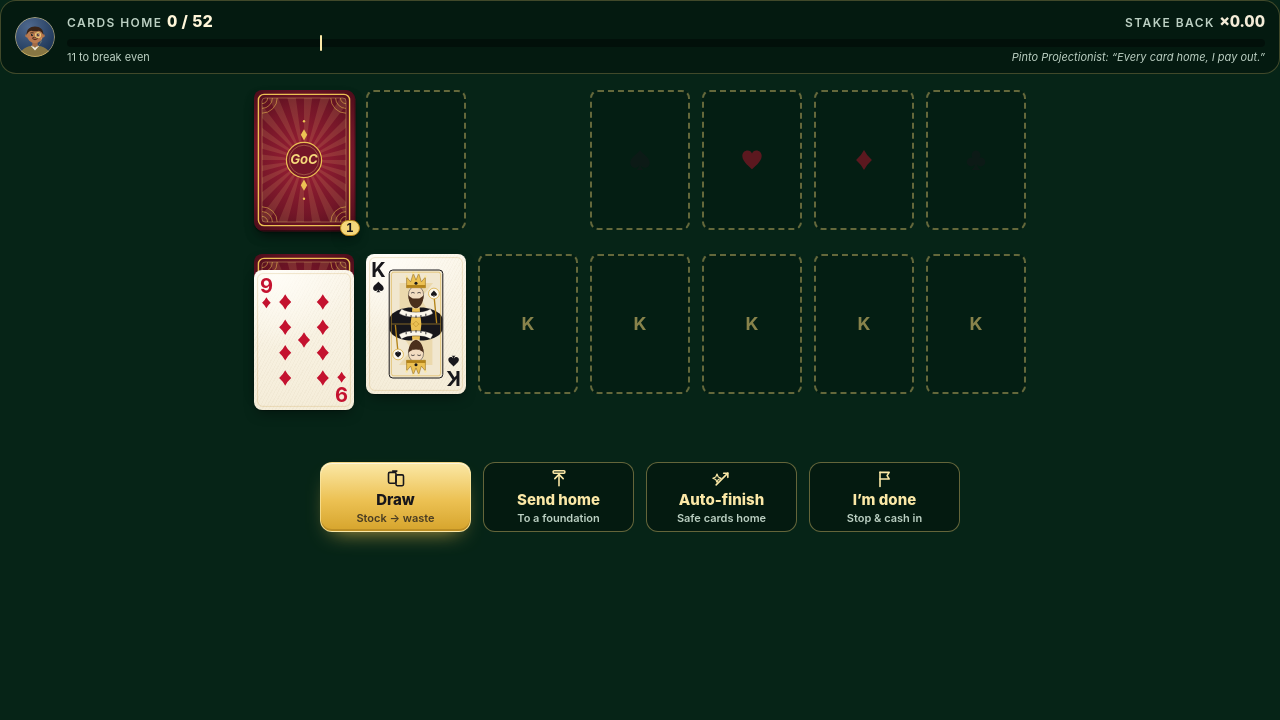
KlondikeBoard — I’m done and Auto-finish › Auto-finish says so when no card can safely go home
Click the button with test id "klondike-autofinish".
click(722, 497)  # box [646,462,797,532]
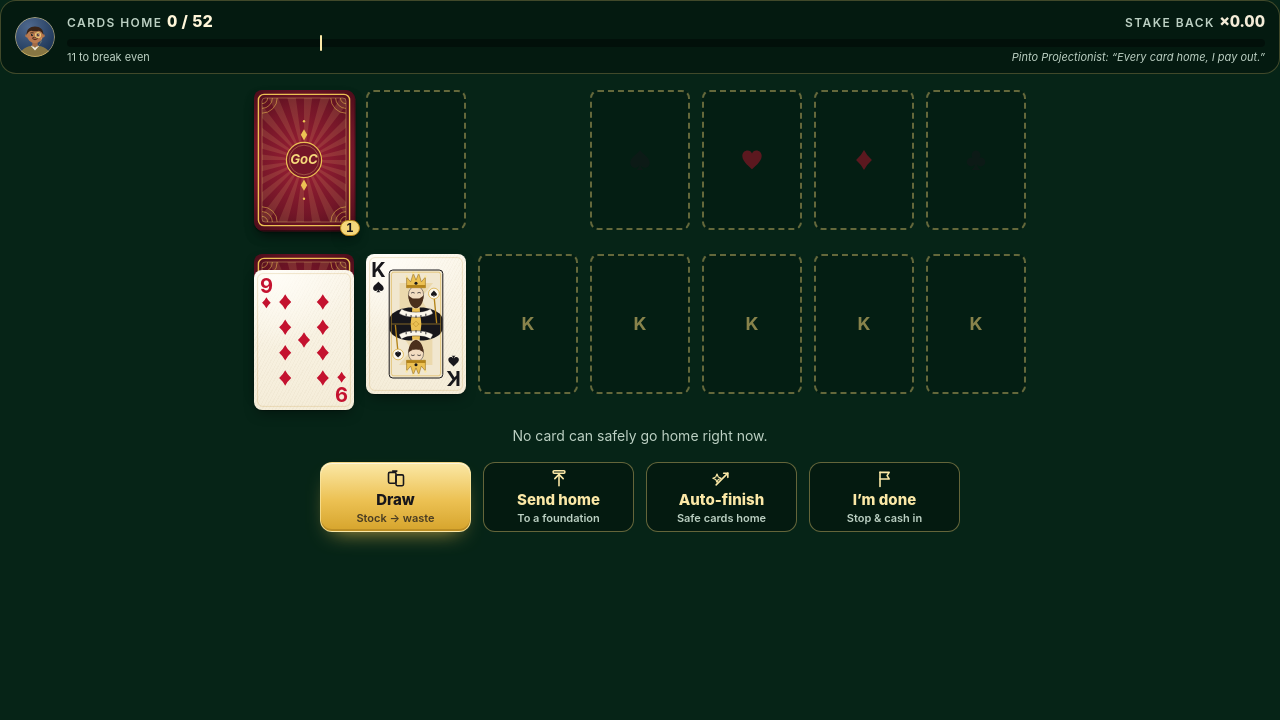
Check: the text with test id "klondike-note" reads "No card can safely go home right now.", box [512,427,768,444]
